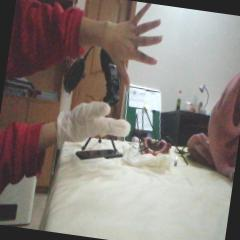gloved: (53, 97, 134, 153)
not-gloved: (84, 0, 167, 95)
